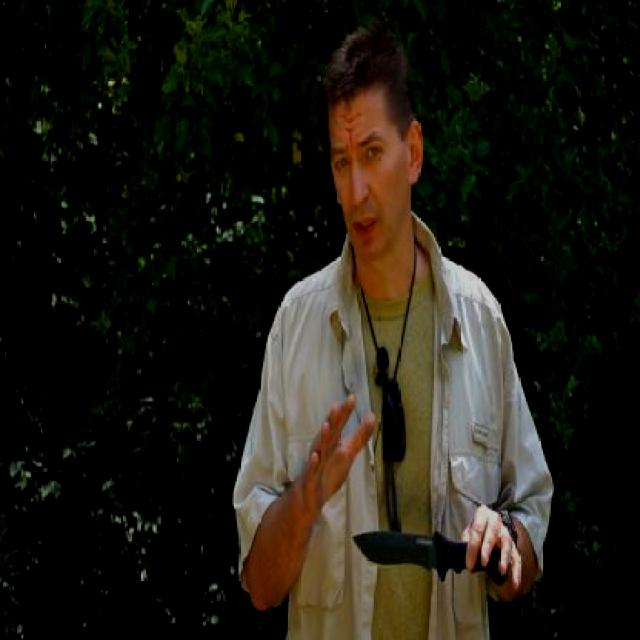knife: (346, 502, 525, 596)
